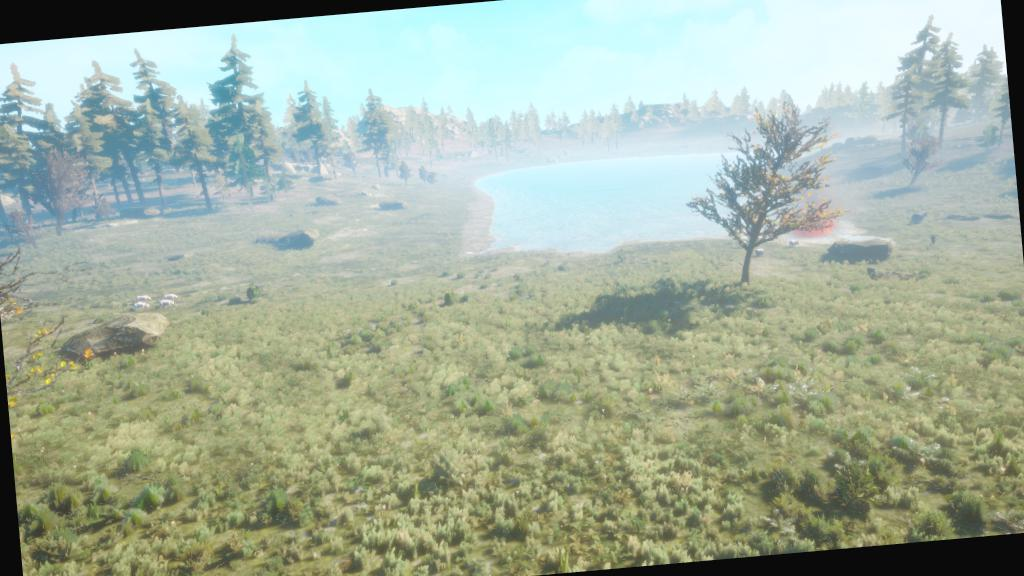Fire: (794, 206, 836, 237)
human: (928, 233, 938, 246)
pig: (130, 300, 152, 312), (158, 297, 178, 310), (134, 291, 153, 304), (163, 291, 180, 301), (752, 248, 766, 257), (788, 238, 800, 247)
